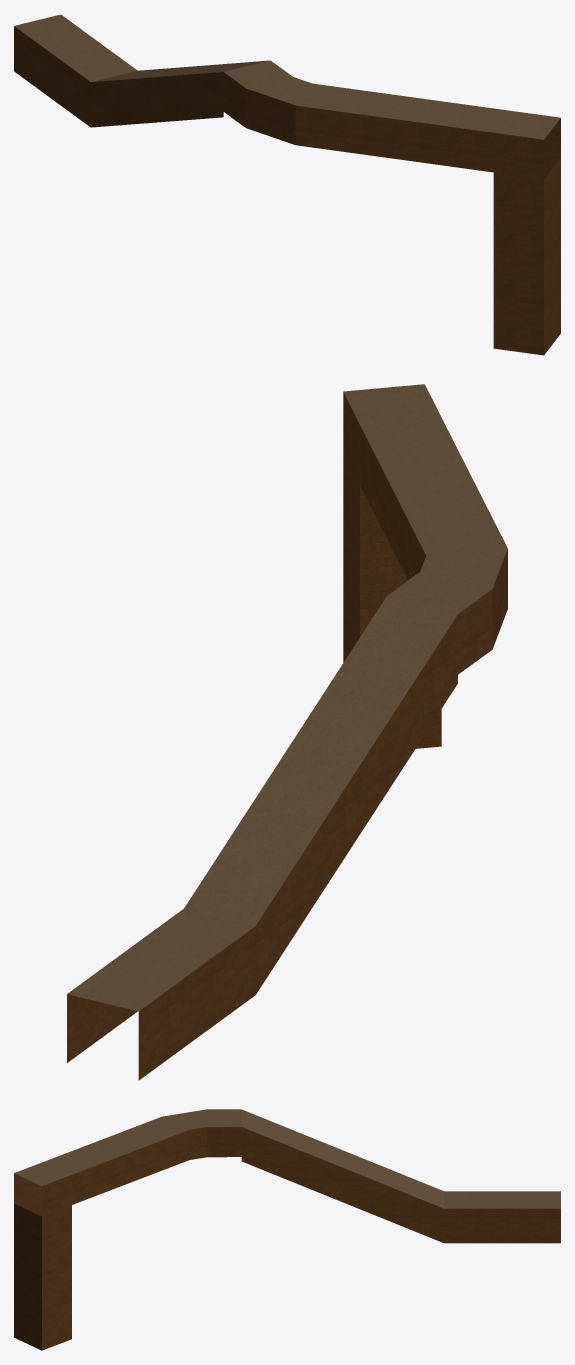
The model's file is boulderTunnelExit.fbx.
3 views of the same model, one above another, from view 1: azimuth 30°, elevation 25°; view 2: azimuth 150°, elevation 25°; view 3: azimuth 270°, elevation 25° (orthographic). The views are drawn at different scales.
Parts seen in each view (by area): view 1: boulderTunnelExit; view 2: boulderTunnelExit; view 3: boulderTunnelExit.
Part boxes in pixels (x1,y1,x2,y2): boulderTunnelExit: (14,14,560,355); boulderTunnelExit: (67,384,507,1080); boulderTunnelExit: (14,1109,560,1350).
Bounding box in the file's own units: 2628 × 2625 × 7906.
